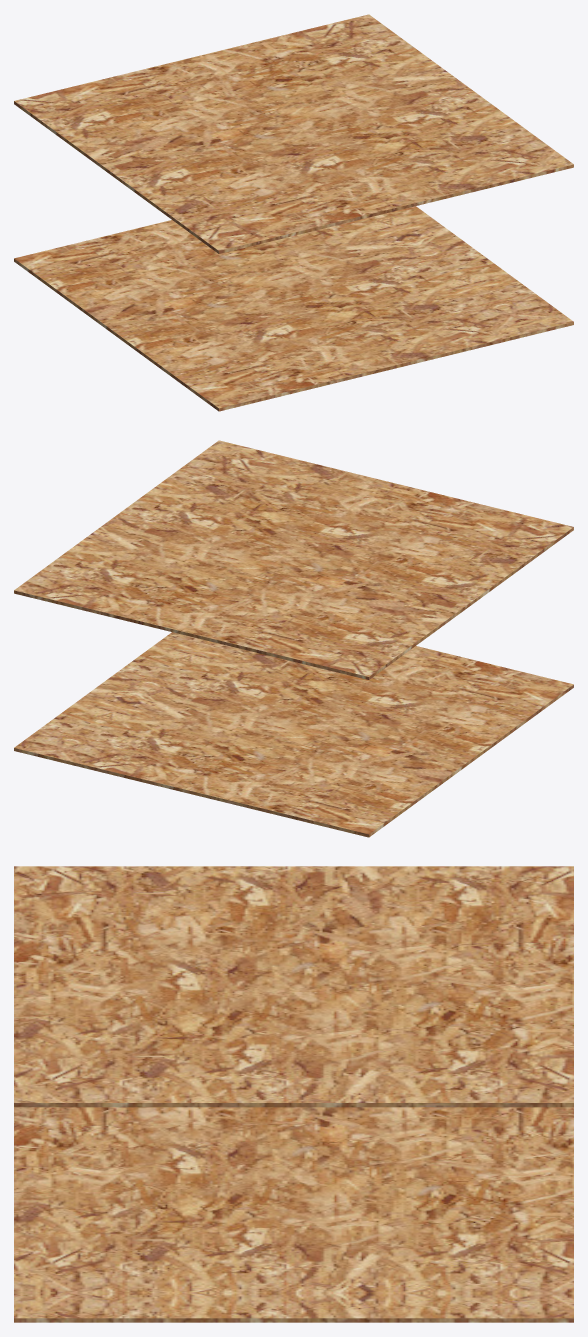
The model's file is manip_storage.dae.
The picture shows the model from 3 angles, top to bottom: view 1: azimuth 30°, elevation 25°; view 2: azimuth 150°, elevation 25°; view 3: azimuth 270°, elevation 25°; orthographic projection. The views are drawn at different scales.
Parts seen in each view (by area): view 1: Plane; view 2: Plane; view 3: Plane.
Boxes of the visible parts, x1,y1,x2,y2 form: Plane: [14, 14, 573, 411]; Plane: [14, 440, 573, 837]; Plane: [14, 866, 573, 1322].
Size of the model in its own units: 1.18 by 1.18 by 0.51.
1 material, 1 textured.
